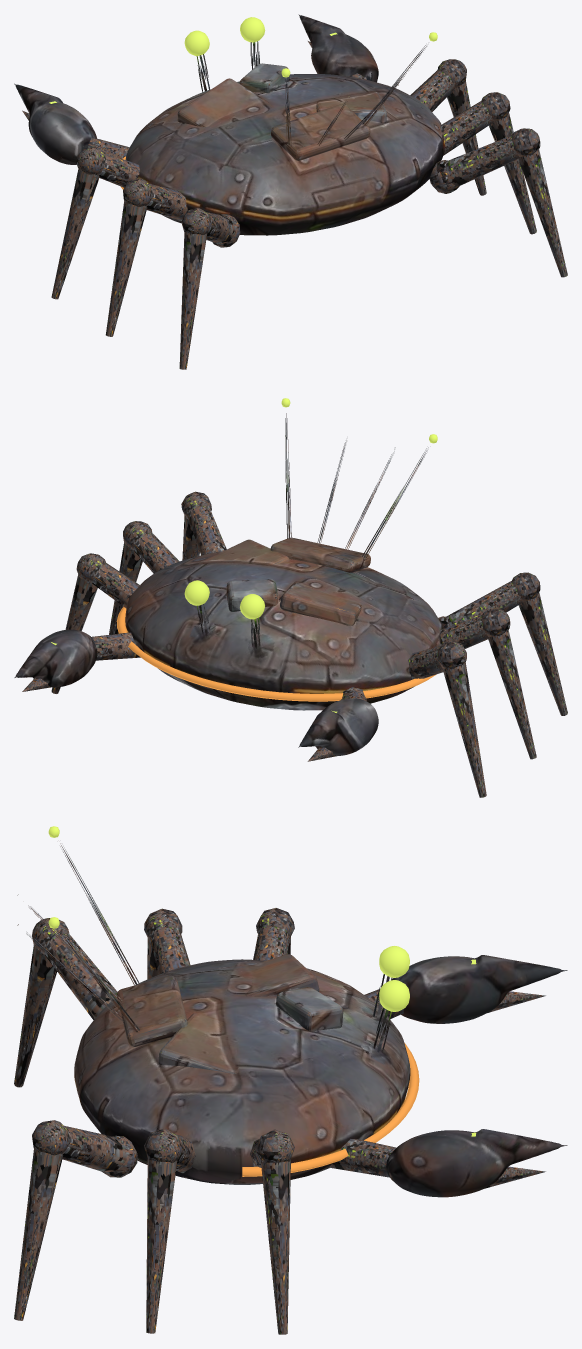
File: junk_scuttler.glb
The picture shows the model from 3 angles, top to bottom: view 1: azimuth 30°, elevation 25°; view 2: azimuth 150°, elevation 25°; view 3: azimuth 270°, elevation 25°; orthographic projection. The views are drawn at different scales.
Visible parts, largest first — view 1: shell.002, plate.002, shell.001, shell, dark.009, dark.013, dark.005, dark.011, dark.012, dark.007, dark.003, dark.008 (+7 smaller); view 2: shell.002, plate.002, shell, shell.001, dark.005, dark.009, dark.013, vent, dark.002, dark.003, dark.014, dark.007 (+8 smaller); view 3: shell.002, plate.002, shell, shell.001, dark.003, dark.011, dark.007, dark.013, dark.014, dark.002, dark.012, glow.002 (+6 smaller).
Part boxes in pixels (x1,y1,x2,y2): shell.002: (125, 74, 444, 235); plate.002: (177, 63, 386, 160); shell.001: (14, 83, 96, 164); shell: (298, 14, 378, 82); dark.009: (105, 179, 152, 336); dark.013: (179, 208, 211, 369); dark.005: (51, 147, 106, 299); dark.011: (511, 128, 567, 277); dark.012: (429, 135, 519, 193); dark.007: (481, 92, 536, 234); dark.003: (437, 59, 486, 195); dark.008: (440, 101, 493, 155); shell.002: (125, 551, 443, 710); plate.002: (198, 537, 370, 626); shell: (14, 629, 97, 687); shell.001: (298, 698, 378, 755); dark.005: (437, 641, 486, 797); dark.009: (481, 608, 536, 759); dark.013: (512, 572, 567, 715); vent: (116, 606, 436, 701); dark.002: (197, 413, 428, 648); dark.003: (51, 553, 105, 693); dark.014: (438, 581, 522, 628); dark.007: (109, 521, 152, 634); shell.002: (74, 959, 410, 1184); plate.002: (117, 954, 343, 1073); shell: (386, 1129, 567, 1197); shell.001: (392, 955, 567, 1023); dark.003: (256, 1129, 294, 1334); dark.011: (14, 1120, 70, 1320); dark.007: (144, 1128, 182, 1333); dark.013: (14, 918, 69, 1087); dark.014: (44, 933, 117, 1019); dark.002: (17, 843, 392, 1052); dark.012: (62, 1125, 137, 1177); glow.002: (48, 826, 409, 1011).
Size of the model in its own units: 1.41 by 0.8168 by 1.24.
5 materials, 3 textured.
